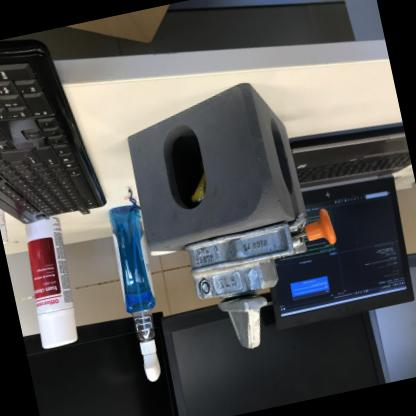CornerCasting: (115, 72, 314, 266)
Twistlock: (178, 206, 356, 362)
